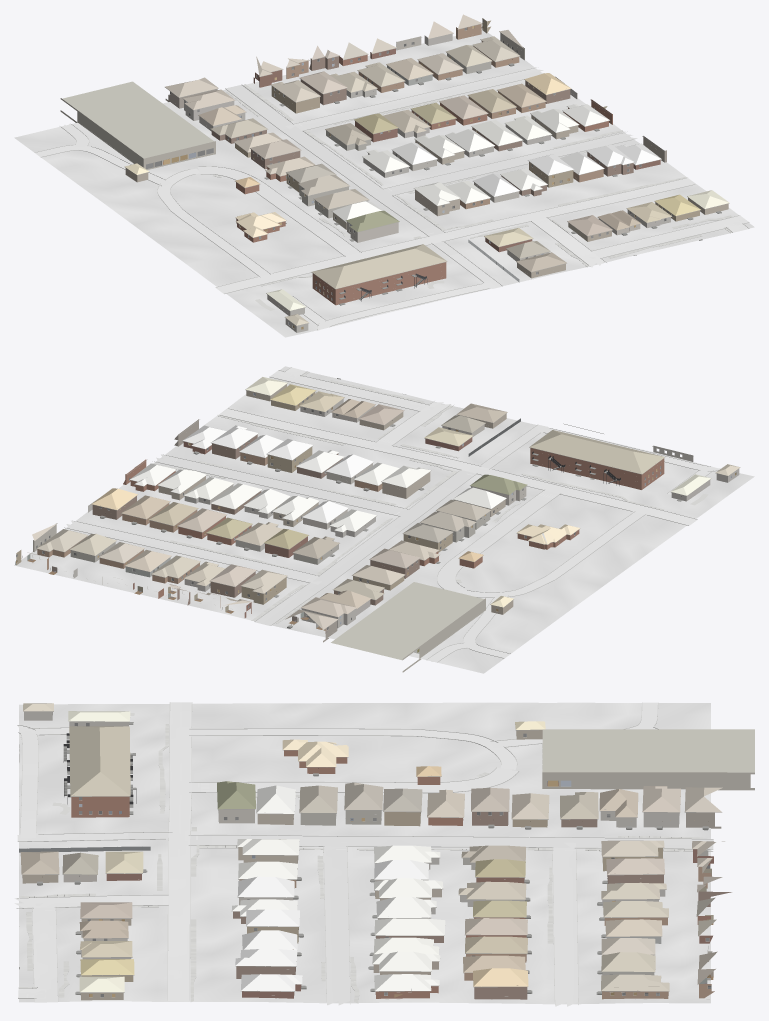
3 views of the same model, one above another, from view 1: azimuth 30°, elevation 25°; view 2: azimuth 150°, elevation 25°; view 3: azimuth 270°, elevation 25° (orthographic). The views are drawn at different scales.
Parts seen in each view (by area): view 1: ground, roof, concrete, wall, roof_flat, curb, detail, asphalt, wall_stucco, walk, wall_stone, wall_com (+1 smaller); view 2: ground, roof, concrete, wall, roof_flat, curb, detail, asphalt, wall_stucco, walk, wall_stone, wall_com; view 3: ground, roof, concrete, wall, roof_flat, asphalt, curb, detail, walk, wall_stucco, wall_com, wall_stone (+3 smaller).
Part boxes in pixels (x1,y1,x2,y2): ground: [14, 30, 754, 337]; roof: [125, 14, 729, 325]; concrete: [35, 68, 748, 330]; wall: [125, 18, 728, 305]; roof_flat: [62, 81, 213, 158]; curb: [34, 67, 749, 330]; detail: [125, 20, 729, 329]; asphalt: [216, 178, 693, 293]; wall_stucco: [299, 33, 640, 261]; walk: [212, 84, 732, 310]; wall_stone: [184, 34, 670, 332]; wall_com: [60, 98, 215, 169]; ground: [14, 366, 754, 673]; roof: [27, 377, 739, 629]; concrete: [66, 367, 720, 661]; wall: [16, 384, 664, 642]; roof_flat: [331, 582, 484, 660]; curb: [64, 367, 718, 662]; detail: [16, 378, 740, 630]; asphalt: [220, 409, 697, 525]; wall_stucco: [33, 406, 693, 584]; walk: [152, 371, 708, 623]; wall_stone: [73, 399, 739, 628]; wall_com: [402, 598, 485, 672]; ground: [19, 702, 710, 1004]; roof: [20, 703, 724, 992]; concrete: [14, 702, 713, 1006]; wall: [22, 730, 731, 1000]; roof_flat: [542, 729, 754, 772]; asphalt: [168, 702, 191, 1000]; curb: [16, 702, 713, 1004]; detail: [19, 711, 721, 999]; walk: [18, 713, 712, 1003]; wall_stucco: [19, 755, 712, 975]; wall_com: [542, 772, 754, 790]; wall_stone: [24, 711, 710, 980].
Bounding box in the file's own units: 253 × 16.52 × 268.
